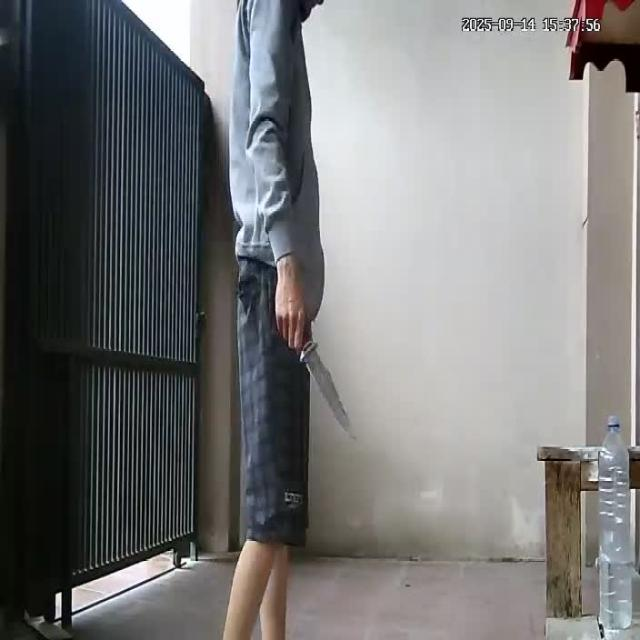senjata_tajam: (300, 335, 360, 441)
